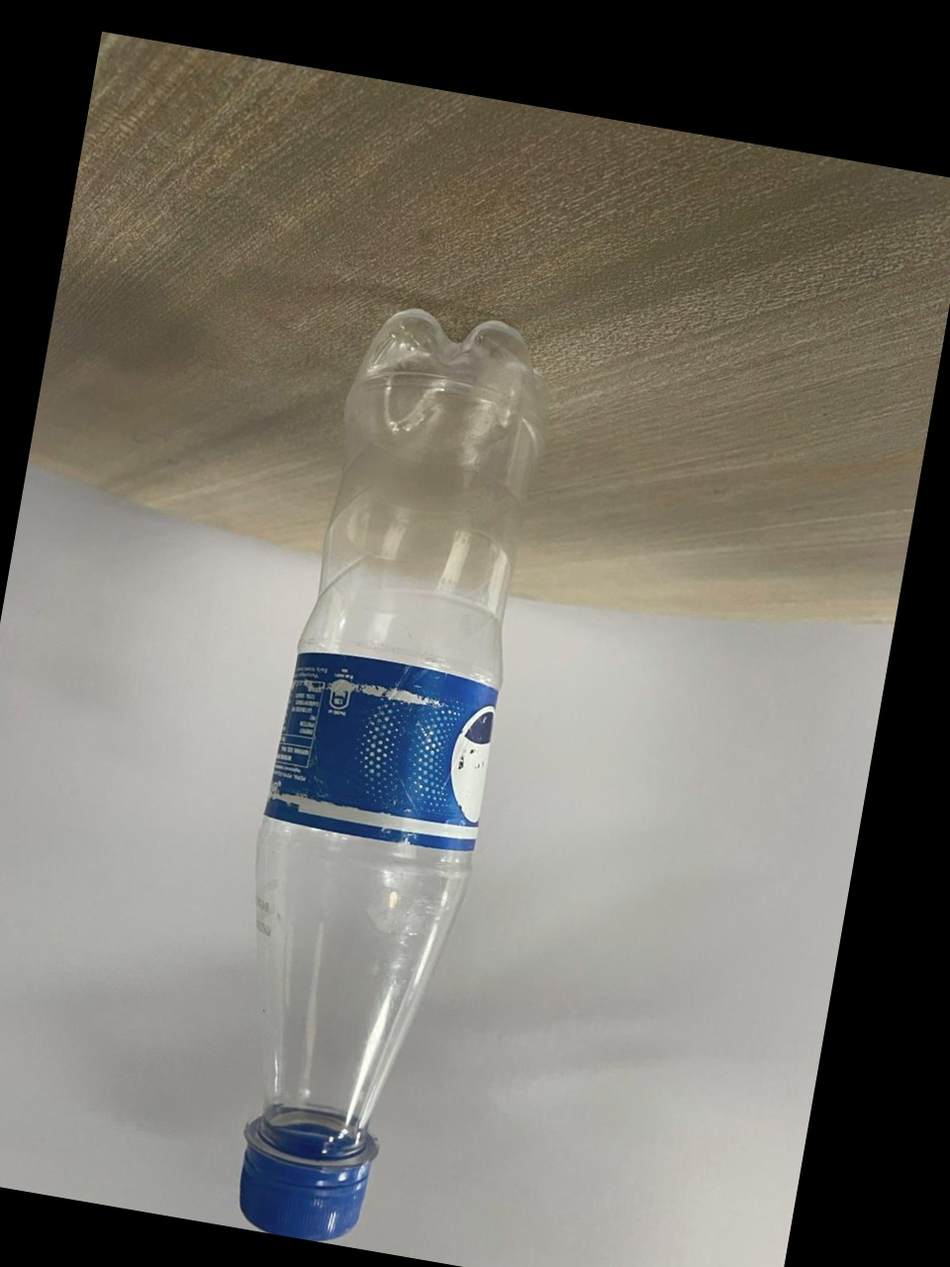Pepsi Bottle: (170, 271, 580, 1259), (174, 275, 579, 1259)
